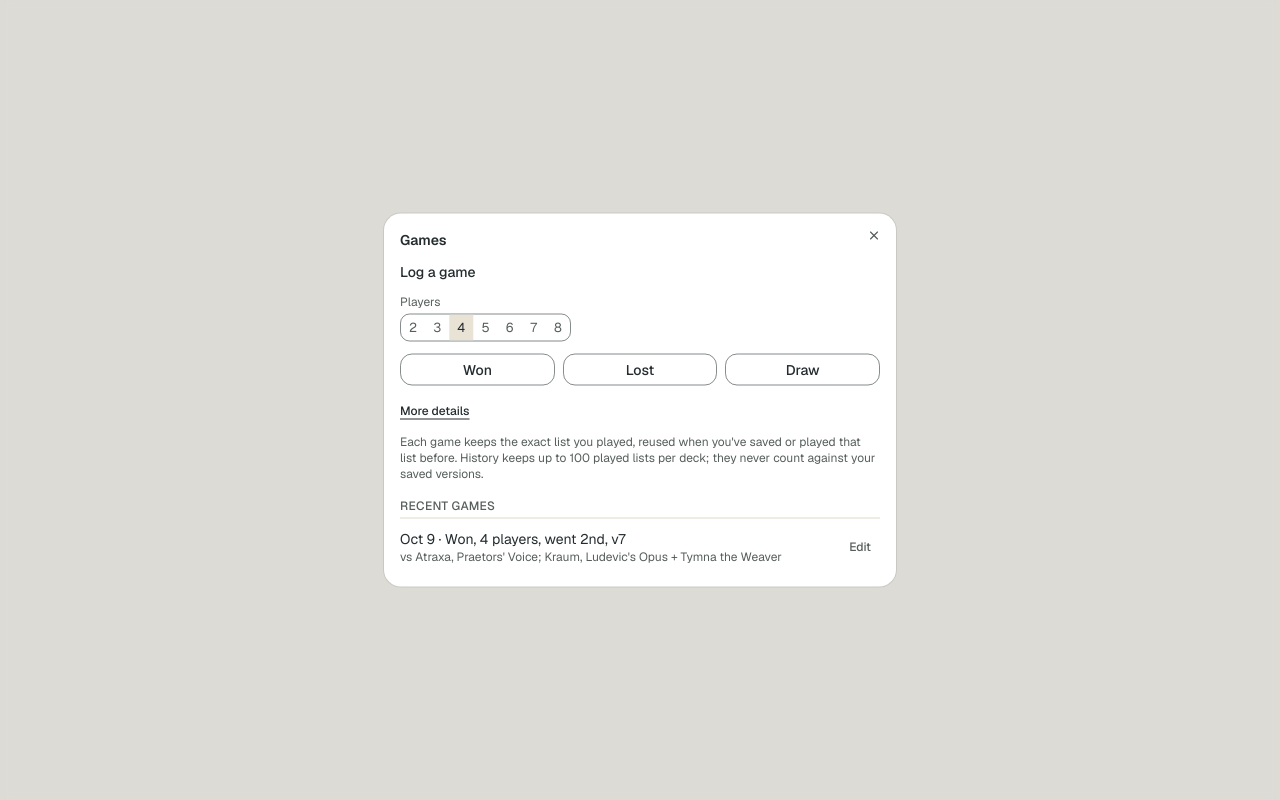
GamesDialog — the recent games, named and editable (Y10) › a refused edit stays open with the route's words
This screenshot has width=1280, height=800.
Expected: the list is shown, [400,522,880,570]
Click the button "Edit".
click(860, 546)  # box [840,534,880,558]
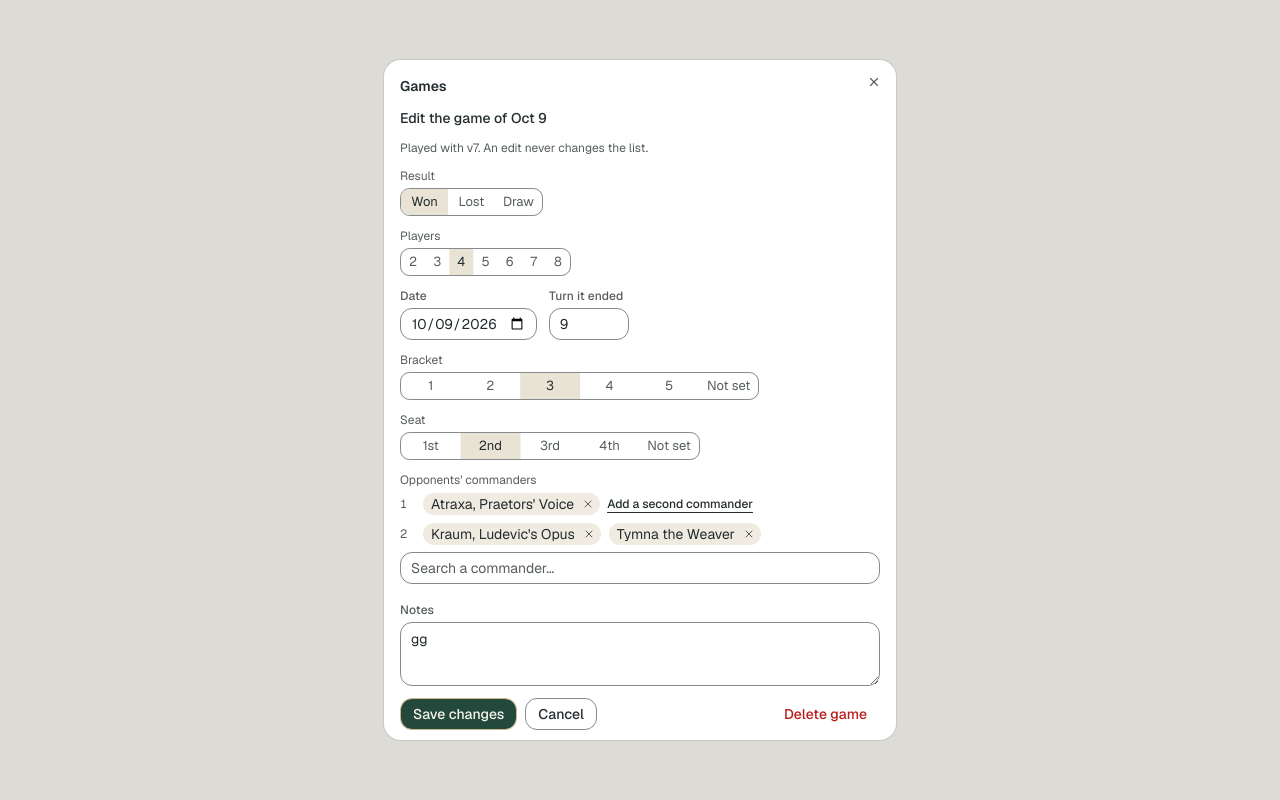
Replace the text in the number field labelled "Turn it ended" with "12" at x=589, y=324, box [549,308,629,340]
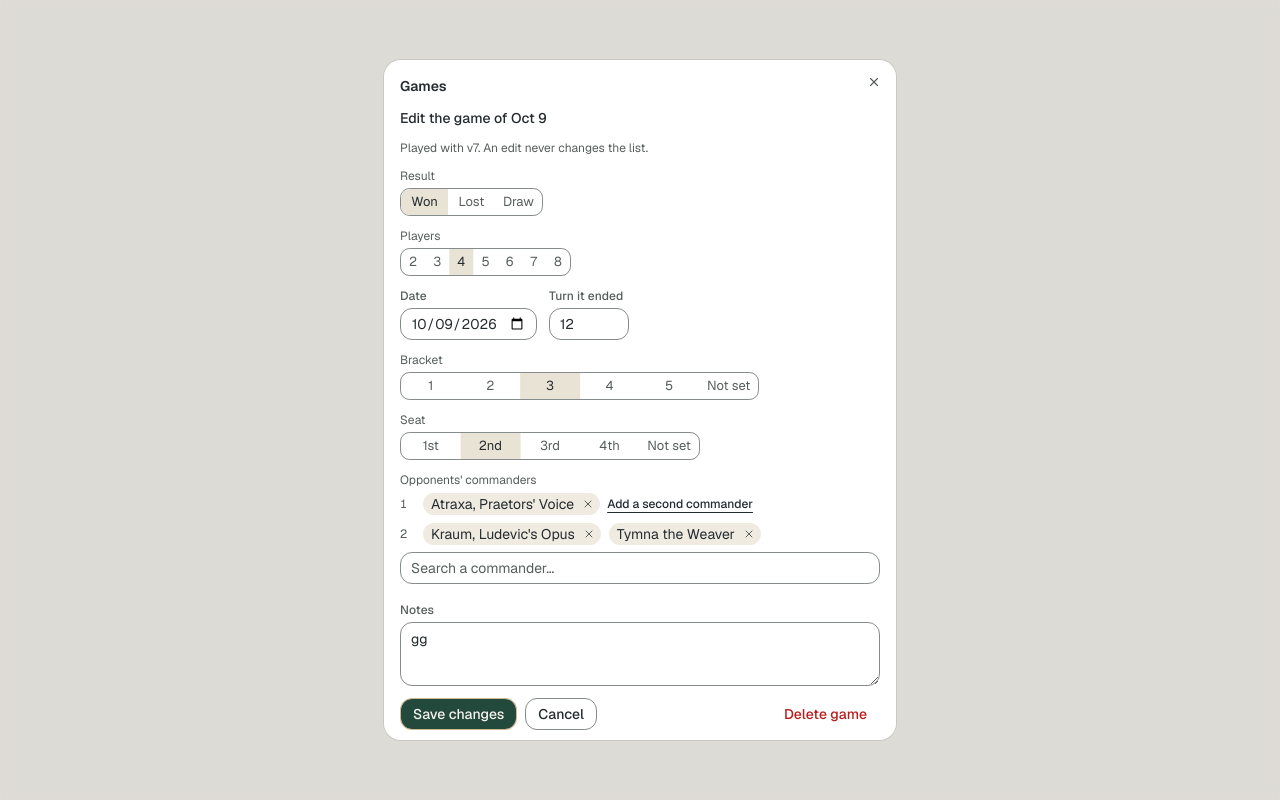
Click the button "Save changes".
click(459, 714)  # box [400,698,517,730]
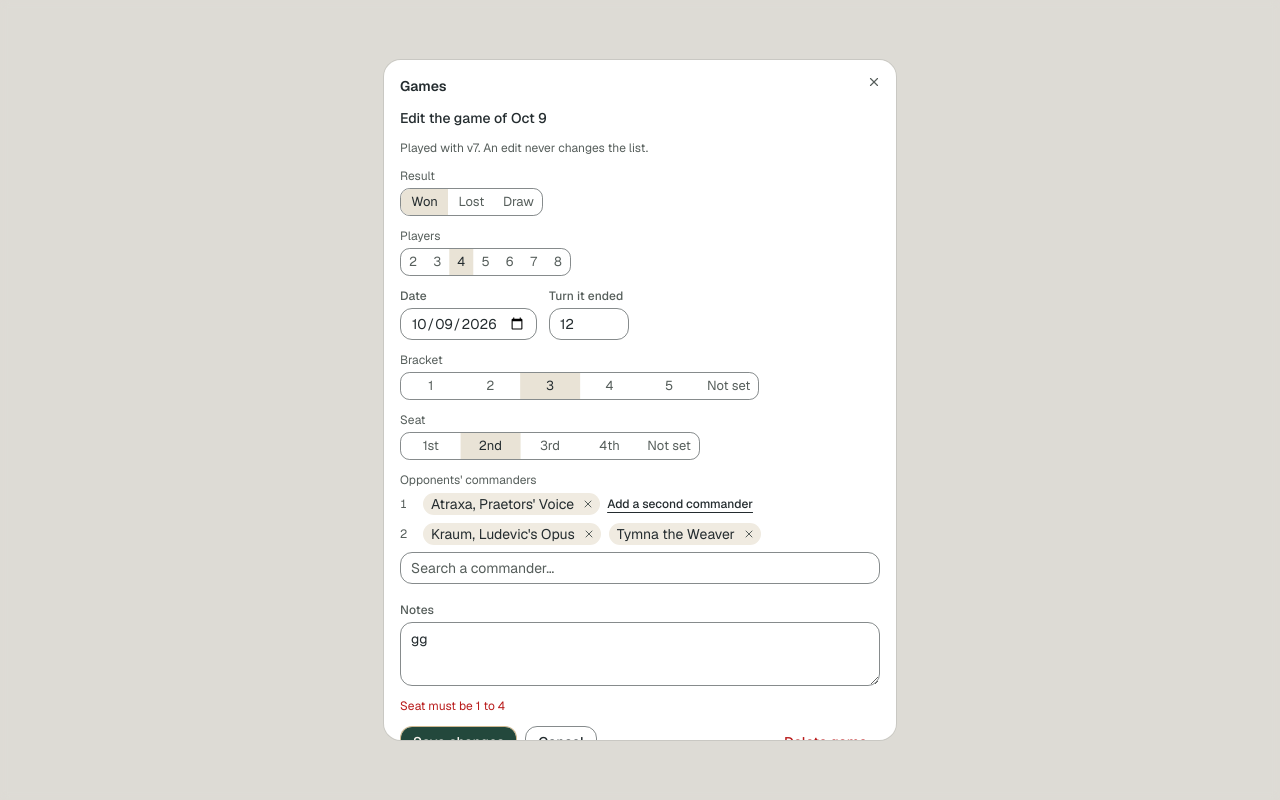
Now the element "Edit the game of" is shown, box [400,108,880,740]
Now the element "Edit the game of" shows "Seat must be 1 to 4", box [400,698,505,714]
